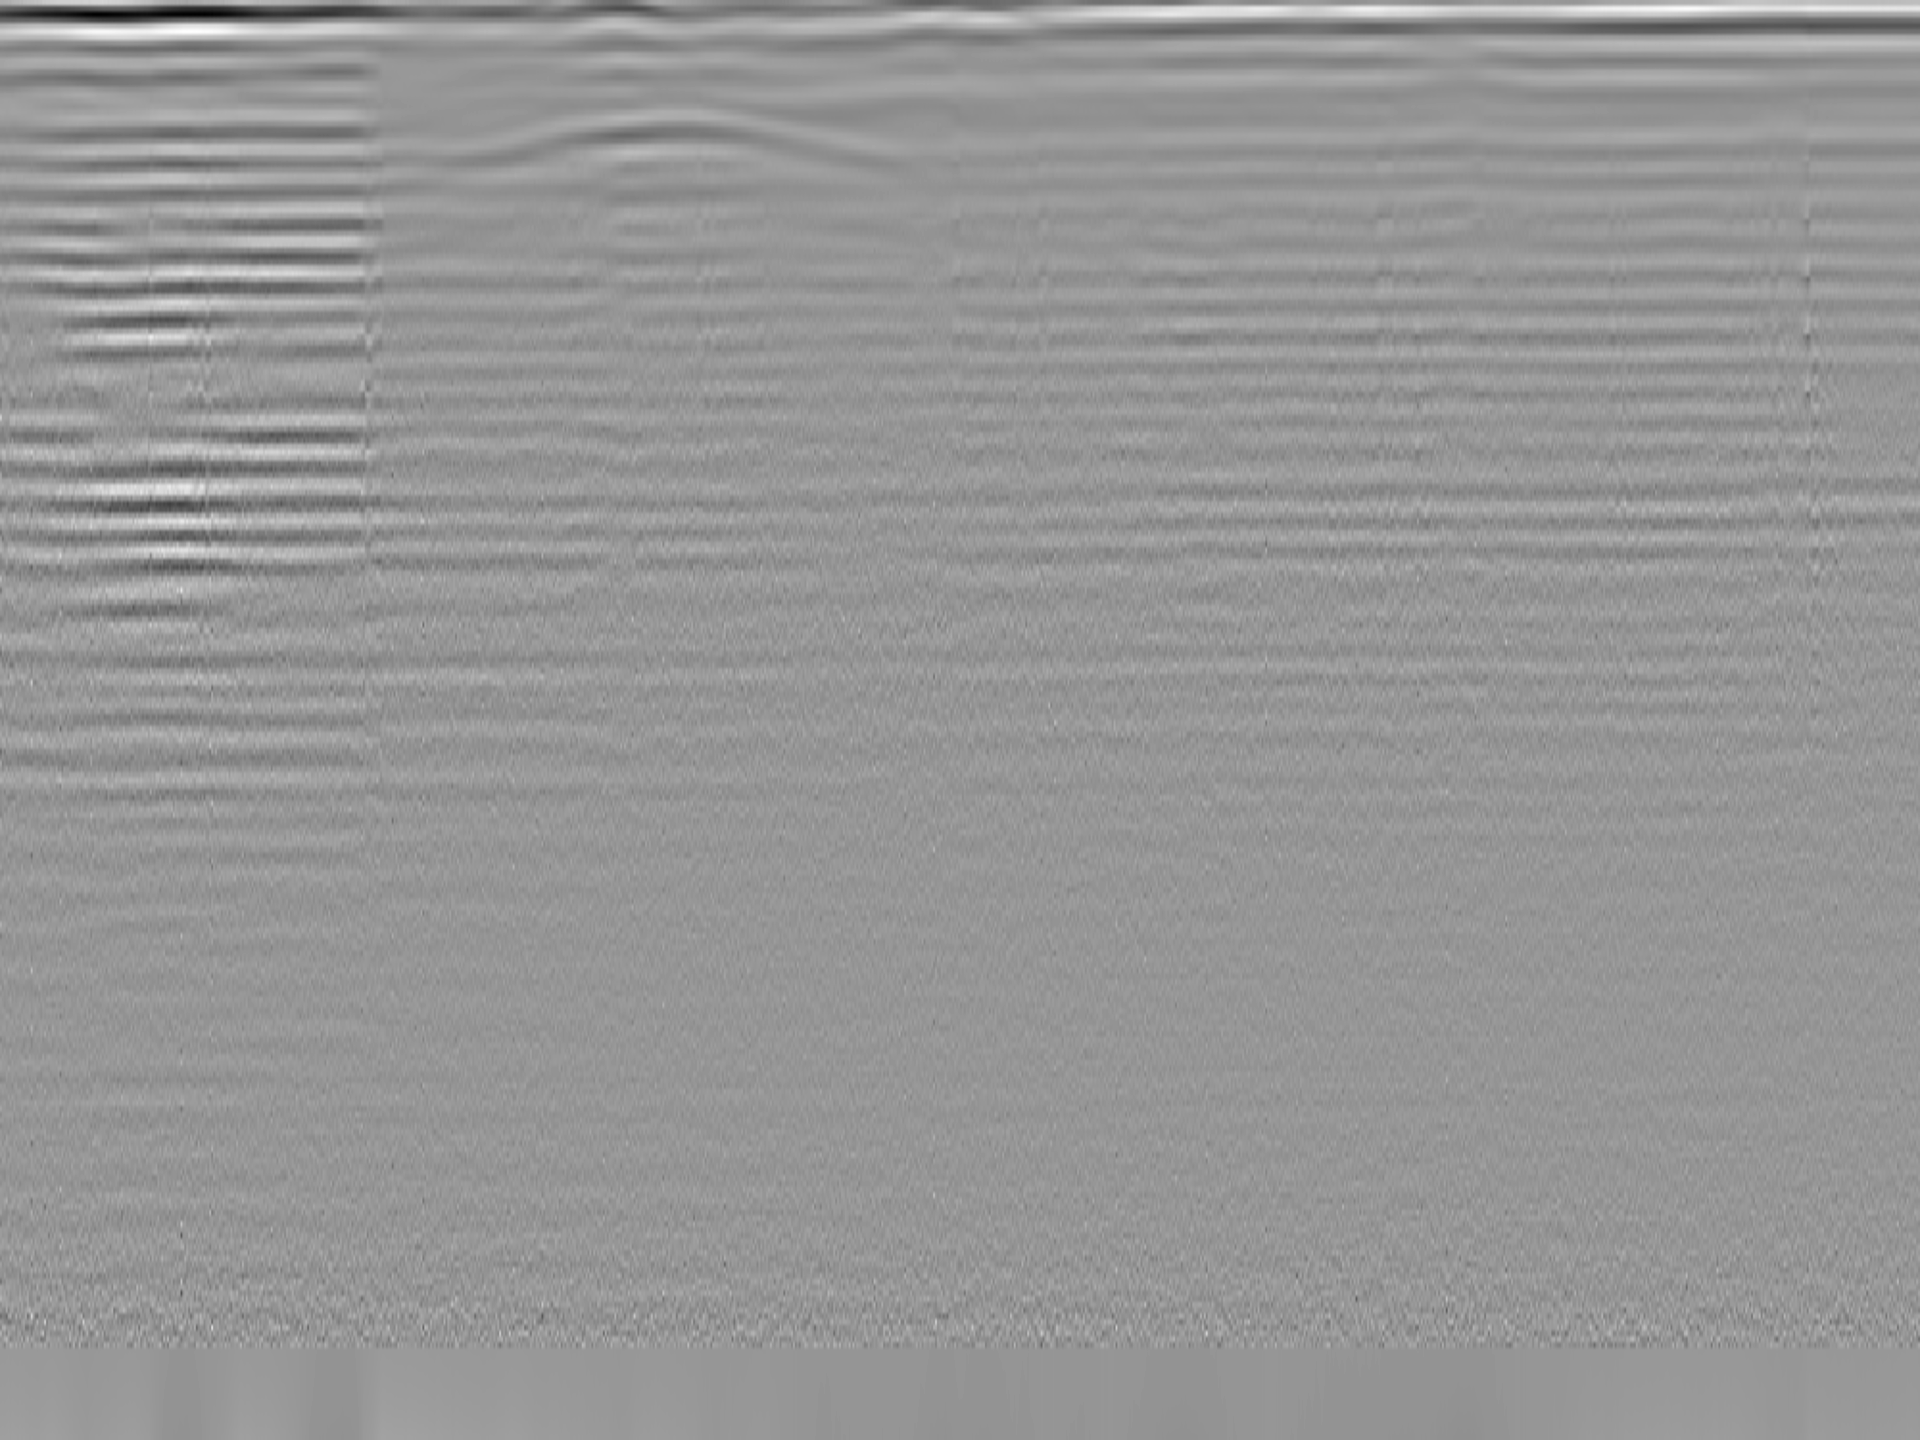Tunnel: (458, 112, 916, 175)
